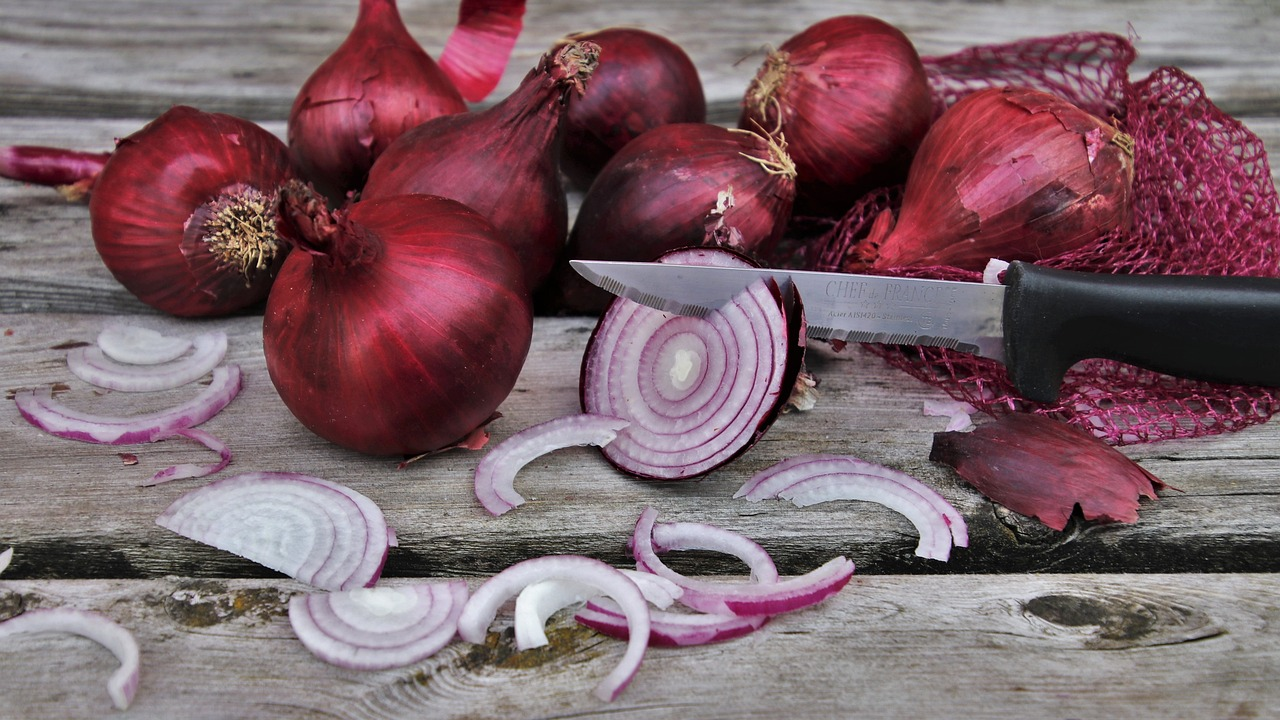knife: (552, 250, 1280, 408)
